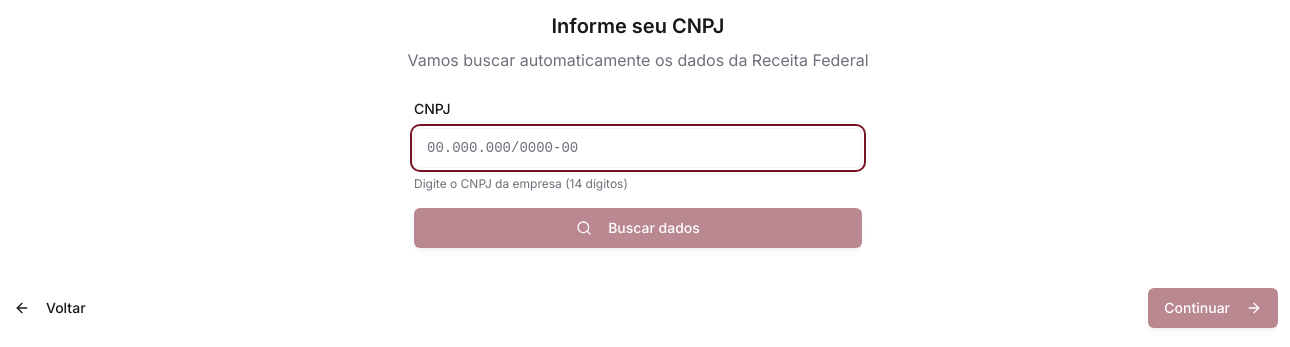
Test case: CnpjInput › CNPJ validation › shows invalid indicator for invalid CNPJ
The width and height of the screenshot is (1290, 347).
Step 1. Type "11111111111111" into the field labelled "CNPJ" → (638, 148), box 414,128 -> 862,168
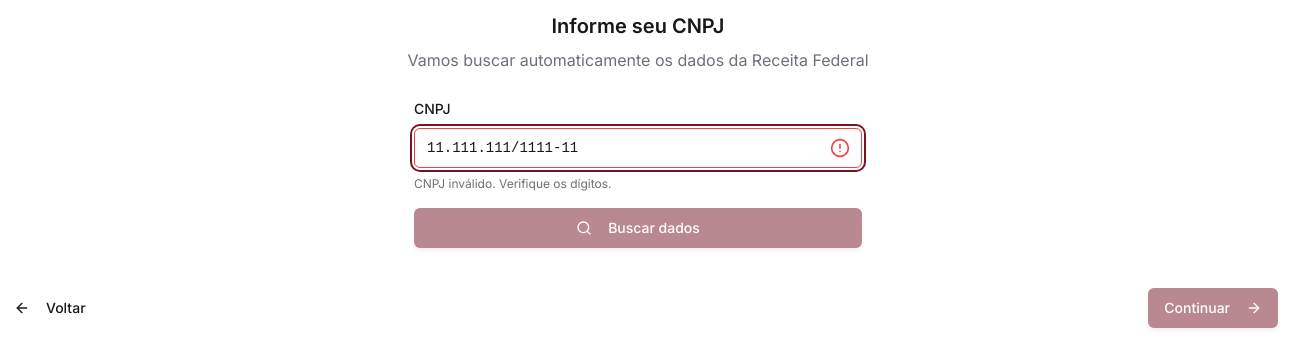
Check: the text "CNPJ inválido. Verifique os dígitos." is shown, box 414,176 -> 612,191
